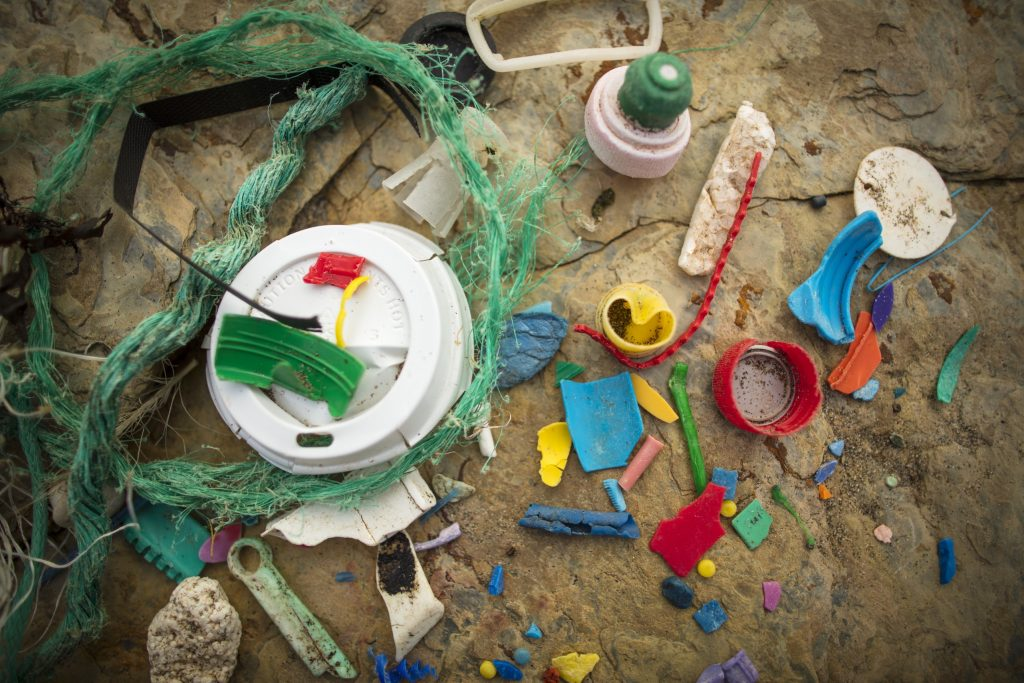litter: (152, 236, 498, 470), (576, 32, 756, 202), (204, 531, 381, 683), (220, 447, 464, 551), (362, 530, 490, 666), (843, 132, 963, 270), (352, 134, 519, 233), (100, 475, 237, 590), (701, 334, 833, 449), (550, 356, 664, 479), (771, 212, 882, 338), (634, 481, 755, 586), (933, 310, 1012, 450), (511, 491, 650, 569), (830, 307, 919, 402), (916, 536, 994, 599)
